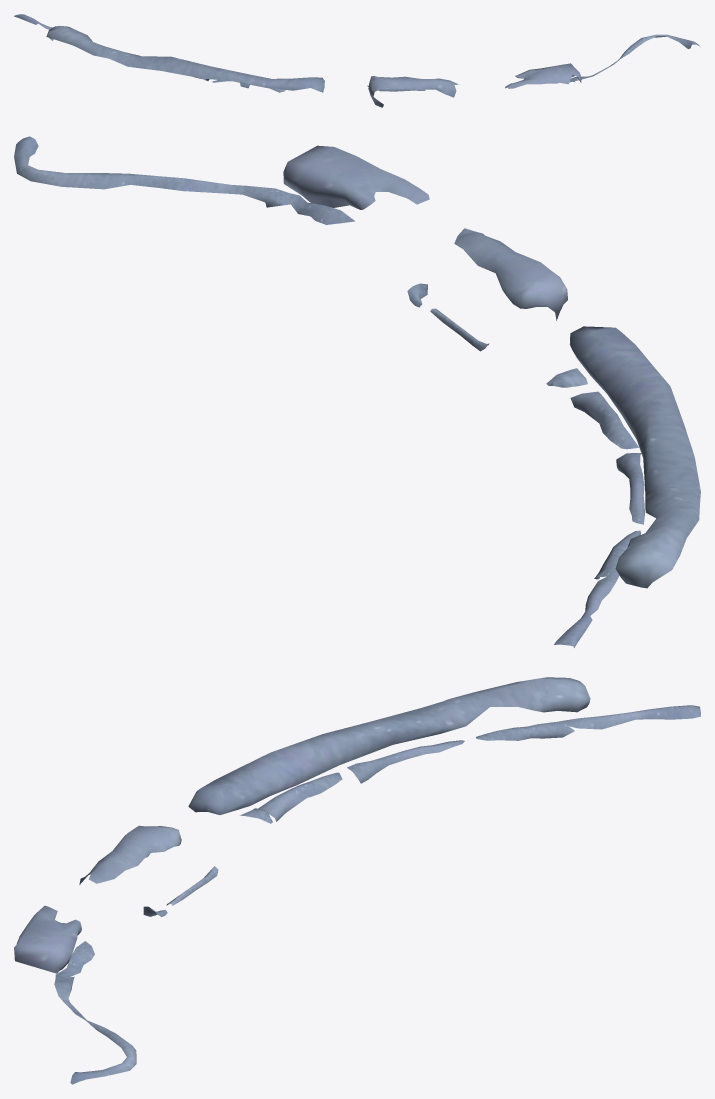
File: pref_sm_beach_winter_snow07_lv1.fbx
3 views of the same model, one above another, from view 1: azimuth 30°, elevation 25°; view 2: azimuth 150°, elevation 25°; view 3: azimuth 270°, elevation 25° (orthographic). The views are drawn at different scales.
Parts seen in each view (by area): view 1: pref_sm_beach_winter_snow07_lv1; view 2: pref_sm_beach_winter_snow07_lv1; view 3: pref_sm_beach_winter_snow07_lv1.
Part boxes in pixels (x1,y1,x2,y2): pref_sm_beach_winter_snow07_lv1: (14,14,700,107); pref_sm_beach_winter_snow07_lv1: (14,136,700,647); pref_sm_beach_winter_snow07_lv1: (14,677,700,1084).
Bounding box in the file's own units: 50.12 × 2.9 × 38.37.
Materials: 1 (1 with a texture image).
